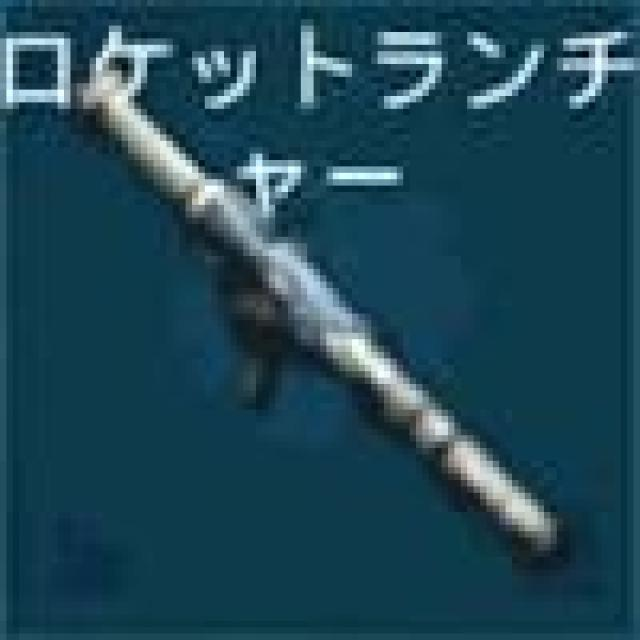bazooka: (29, 23, 623, 615)
